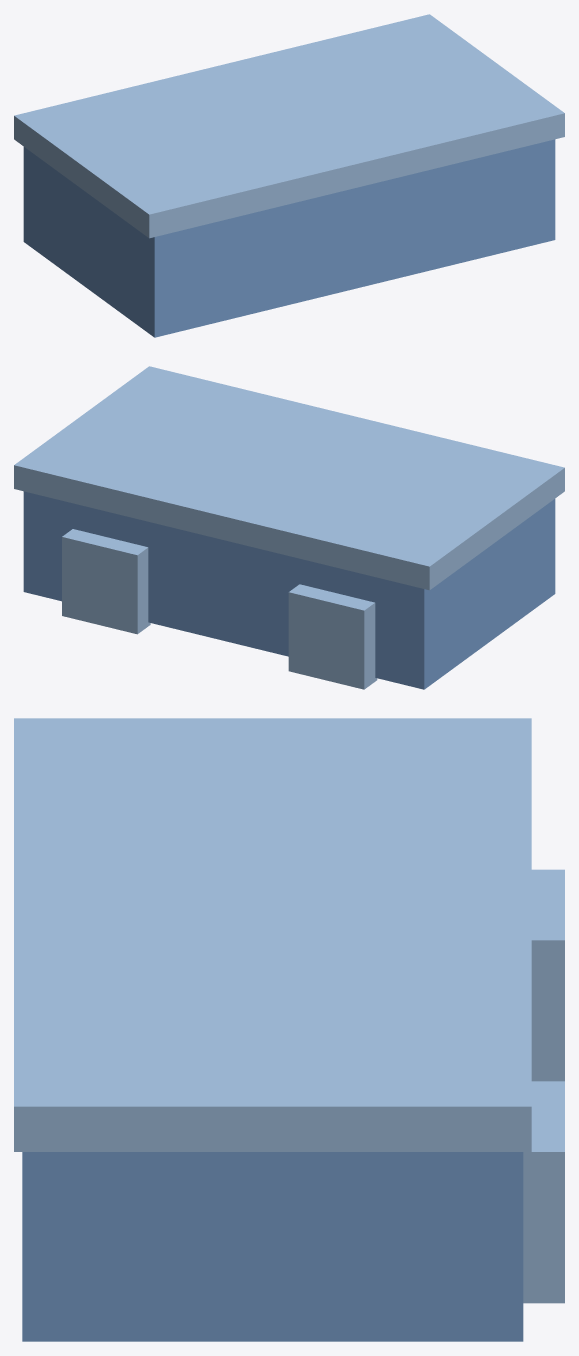
The model's file is tee_estrela_cintura.glb.
3 views of the same model, one above another, from view 1: azimuth 30°, elevation 25°; view 2: azimuth 150°, elevation 25°; view 3: azimuth 270°, elevation 25° (orthographic). The views are drawn at different scales.
Visible parts, largest first — view 1: tee_estrela_cintura; view 2: tee_estrela_cintura; view 3: tee_estrela_cintura.
Part boxes in pixels (x1=…): tee_estrela_cintura: x1=14, y1=14, x2=564, y2=337; tee_estrela_cintura: x1=14, y1=366, x2=564, y2=689; tee_estrela_cintura: x1=14, y1=718, x2=564, y2=1341.
Size of the model in its own units: 0.55 by 0.165 by 0.33.
